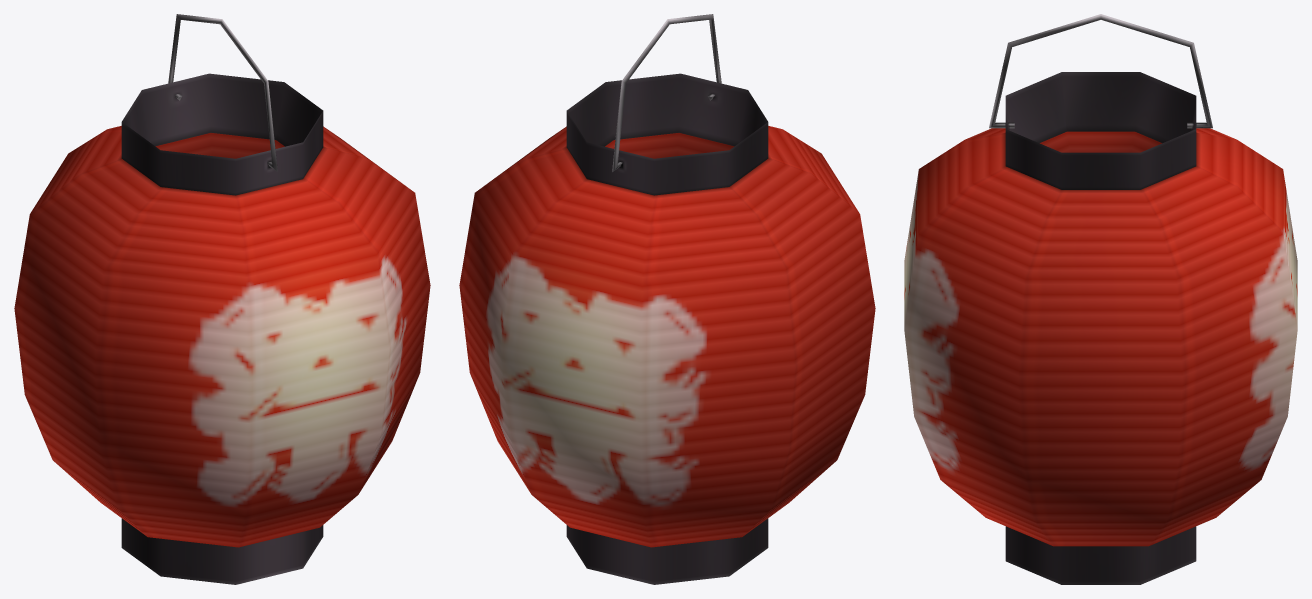
The model's file is jsf_Light_Lantern_01.fbx.
3 views of the same model, side by side, from view 1: azimuth 30°, elevation 25°; view 2: azimuth 150°, elevation 25°; view 3: azimuth 270°, elevation 25° (orthographic).
Visible parts, largest first — view 1: Lantern, Handle; view 2: Lantern, Handle; view 3: Lantern, Handle.
Part boxes in pixels (left/top/right/bottom): Lantern: left=14, top=73, right=430, bottom=584; Handle: left=168, top=14, right=277, bottom=171; Lantern: left=459, top=73, right=875, bottom=584; Handle: left=612, top=14, right=721, bottom=171; Lantern: left=904, top=72, right=1297, bottom=584; Handle: left=989, top=14, right=1212, bottom=128.
Bounding box in the file's own units: 24.03 × 35.78 × 24.03.
